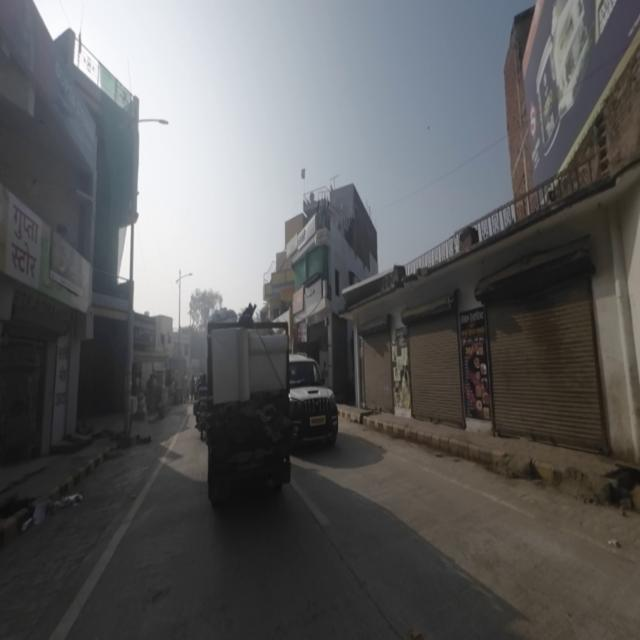Garbage: (55, 488, 88, 511)
